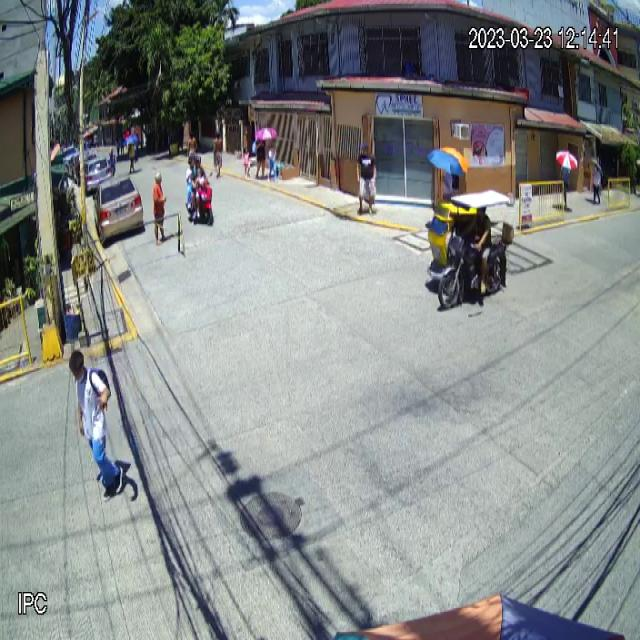Tricycle: (425, 190, 517, 312)
